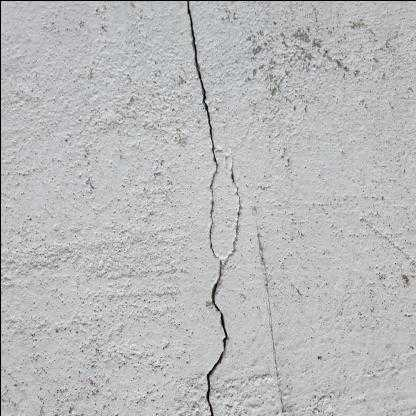crack: (186, 0, 226, 416), (226, 168, 240, 259)
